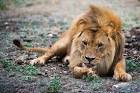lion: (30, 8, 133, 87)
